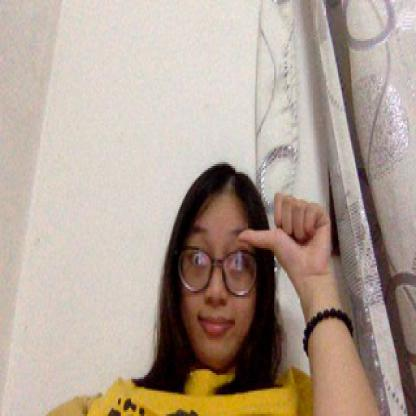right: (236, 189, 336, 289)
